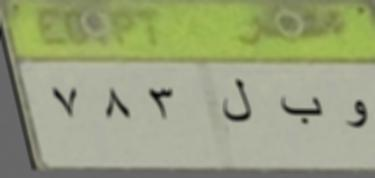3: (146, 80, 178, 126)
7: (46, 81, 82, 123)
8: (99, 83, 131, 131)
baa: (274, 91, 323, 128)
laam: (220, 72, 253, 126)
waw: (338, 96, 370, 136)
